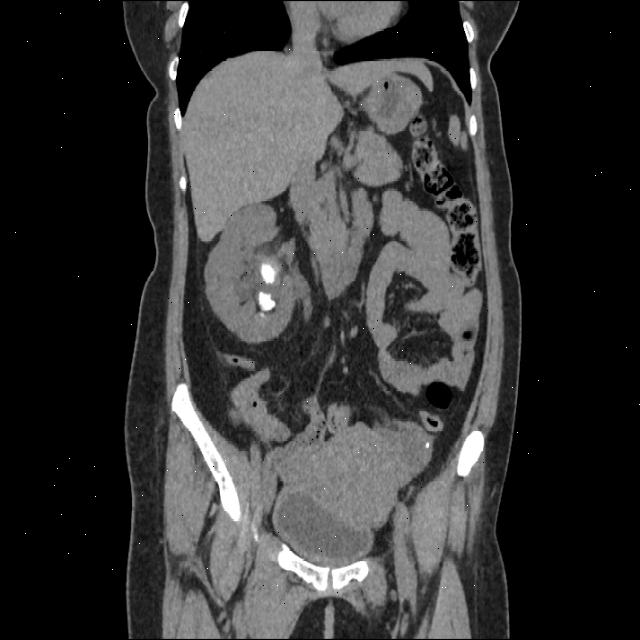kidneystone: (259, 292, 276, 312), (262, 263, 275, 283)
